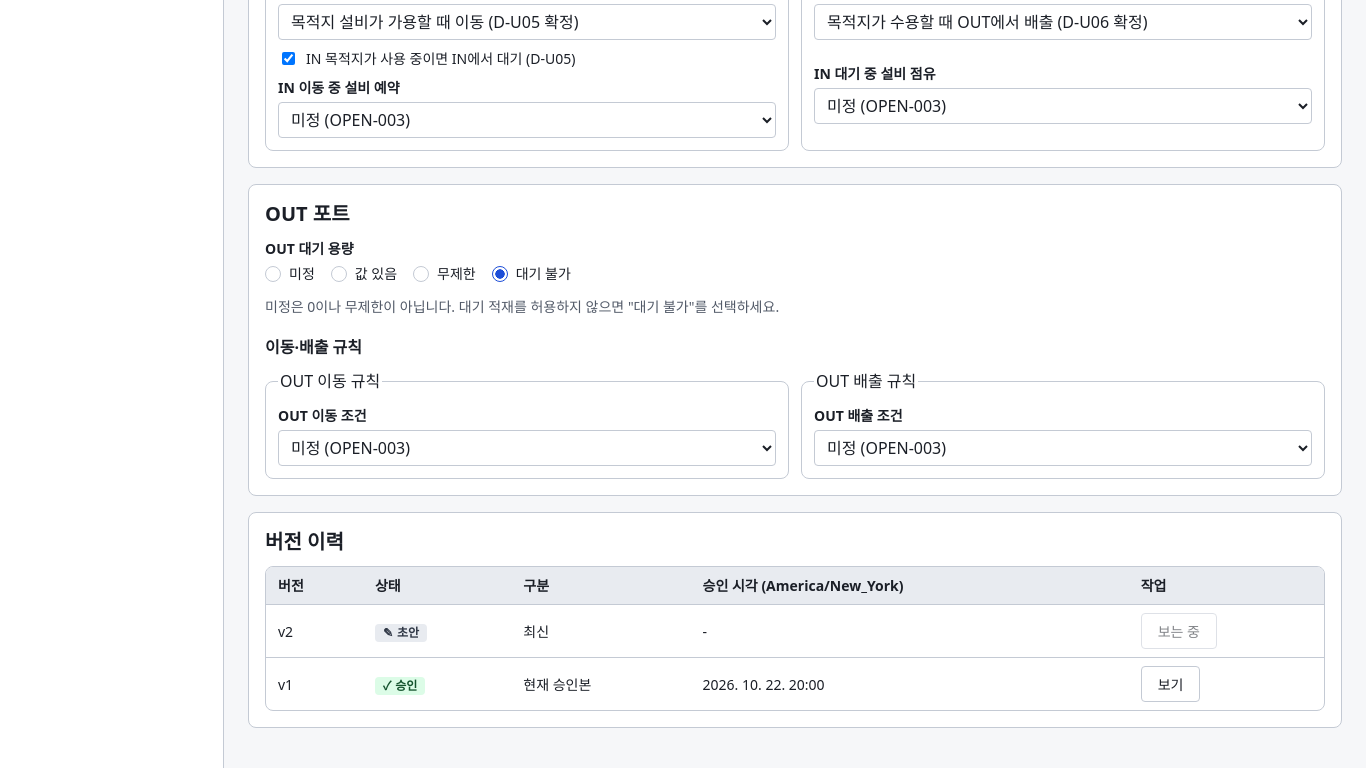
Test: 용량·규칙 저장 (PATCH /asset-revisions/{id}) › OUT 포트의 미정 규칙을 확정하면 D-U05·D-U06 시작값(미정 세부 값은 미정 그대로)으로 보낸다
(page scrolled)
Expected: the dropdown labelled "IN 이동 조건" is shown, 278,4 -> 776,40
Select "목적지가 수용할 때 OUT에서 배출 (D-U06 확정)" in the dropdown labelled "OUT 배출 조건" at (1063, 448), box 814,430 -> 1312,466
(page scrolled)
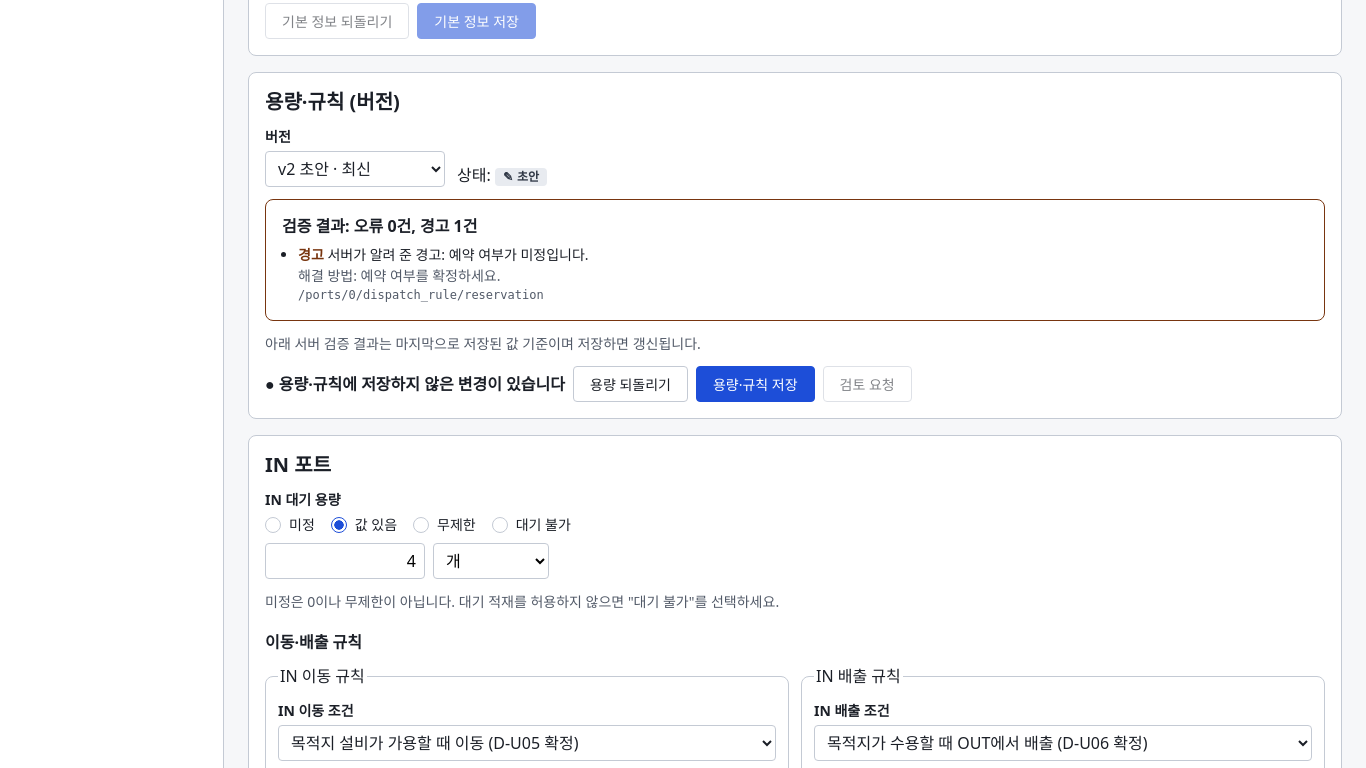
Click the button "용량·규칙 저장".
click(755, 384)  # box 696,366 -> 815,402
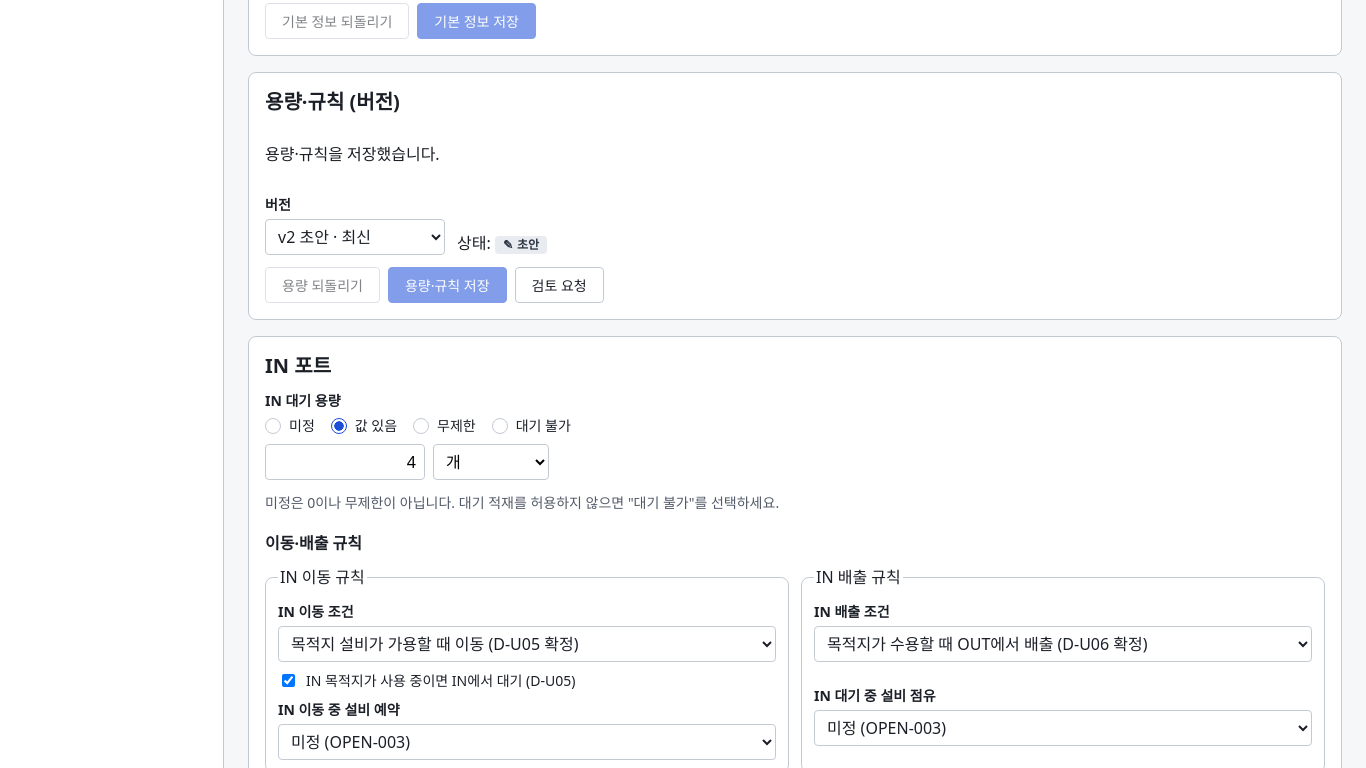
Now the text "용량·규칙을 저장했습니다." is shown, box 265,143 -> 440,165
